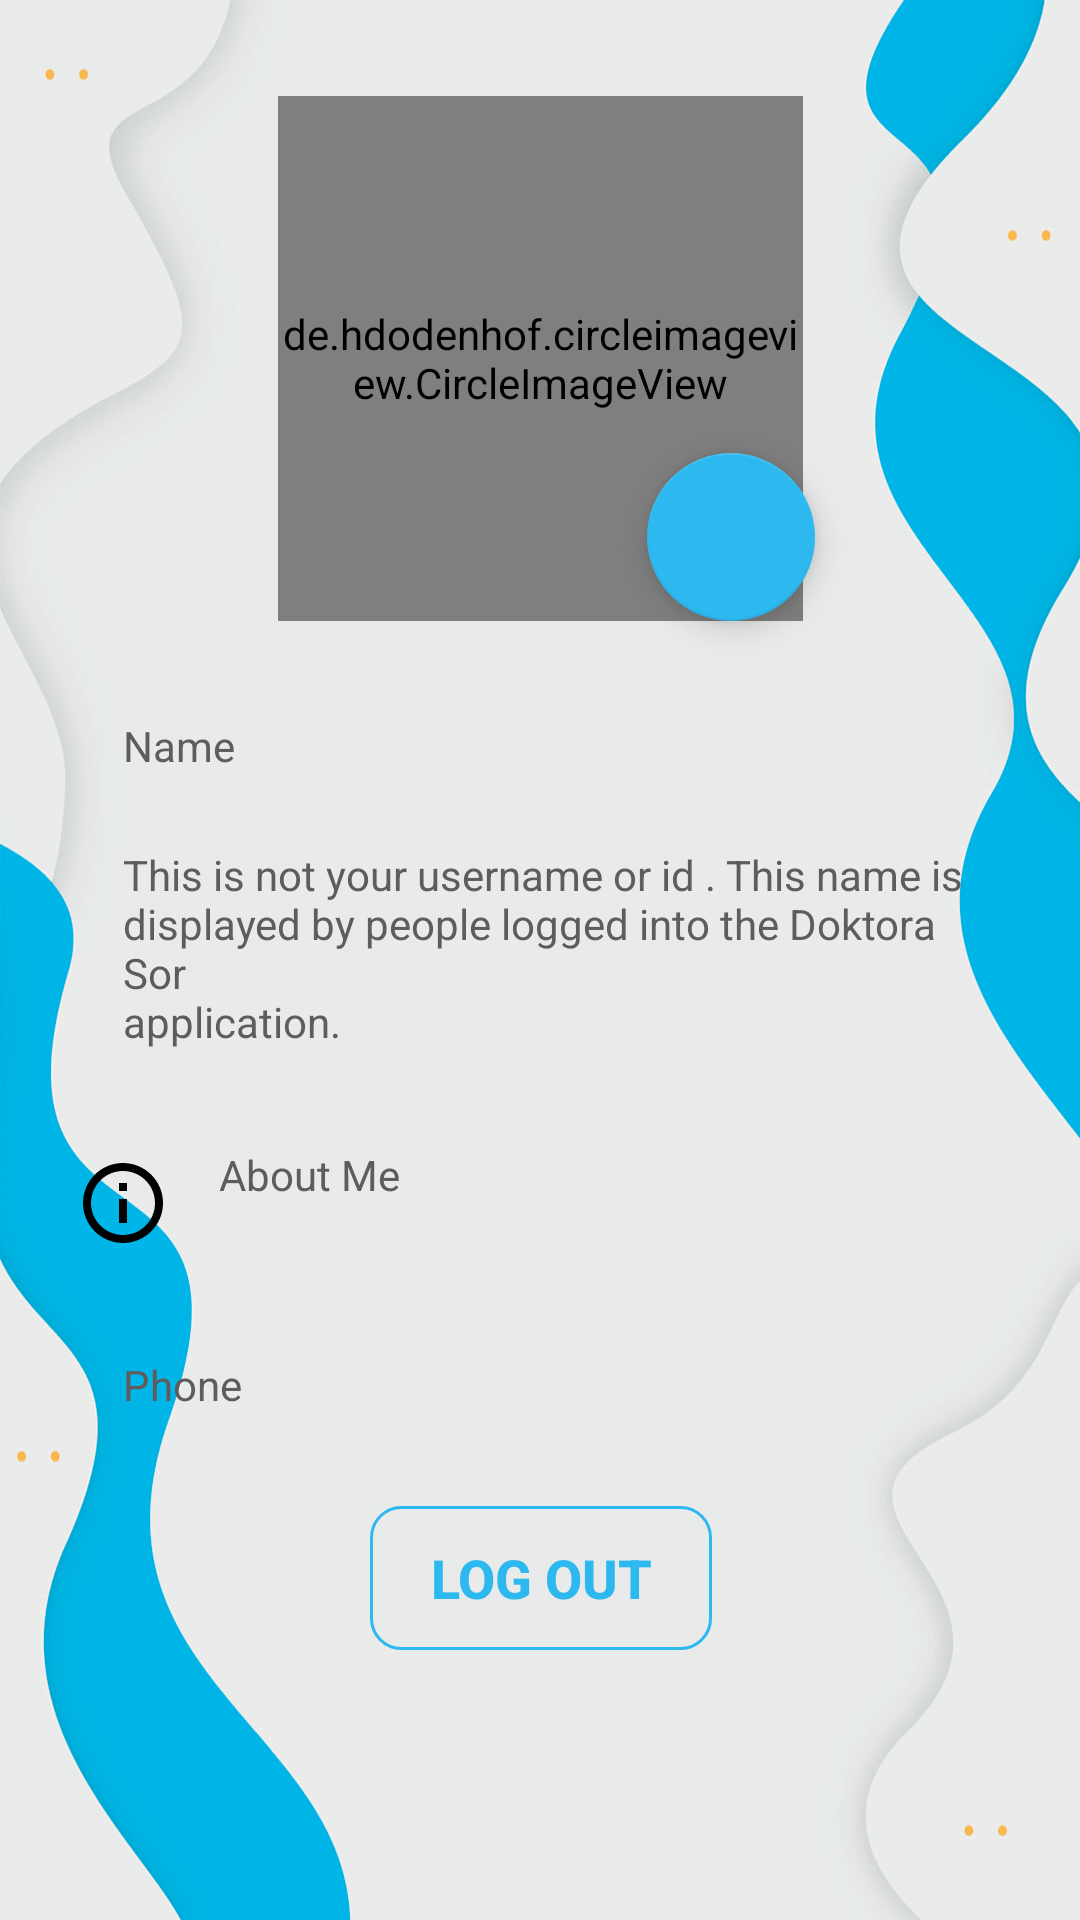

Screen size 1080 x 1920. Icon name, then its center in pixels as (x,y):
info: (123,1203)
